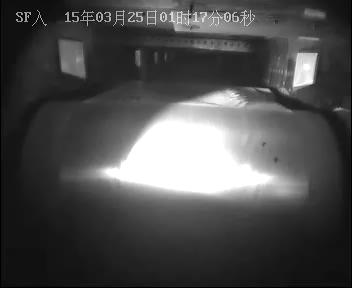wrinkled steel: (103, 154, 128, 191), (247, 163, 269, 200), (226, 88, 251, 110)
